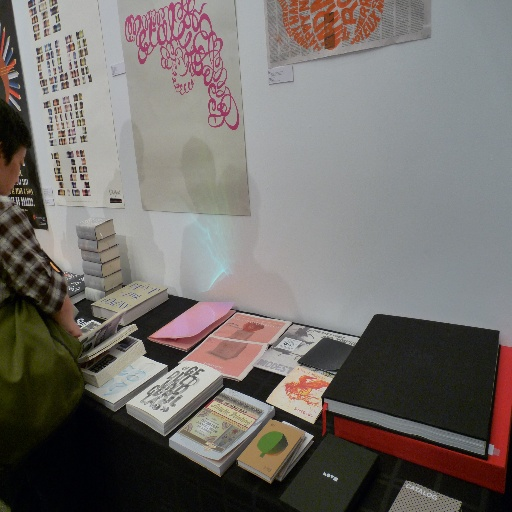hand: (0, 194, 81, 340)
